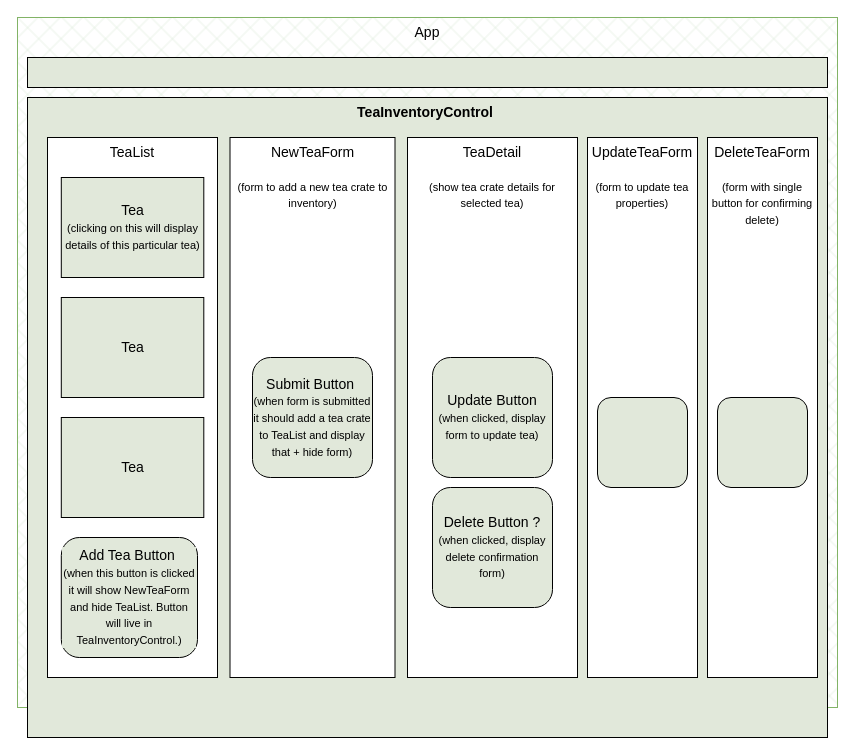
Some shapes in this 855 by 755 pixel diagram are drawn without their labels. The centre of each missing label's shape, as x and y in pixels:
"Header" goes at [427,72].
"Submit Button (when clicked, delete tea and show TeaList)" goes at [762,442].
"Submit Button (when clicked, update tea and show TeaList)" goes at [642,442].
